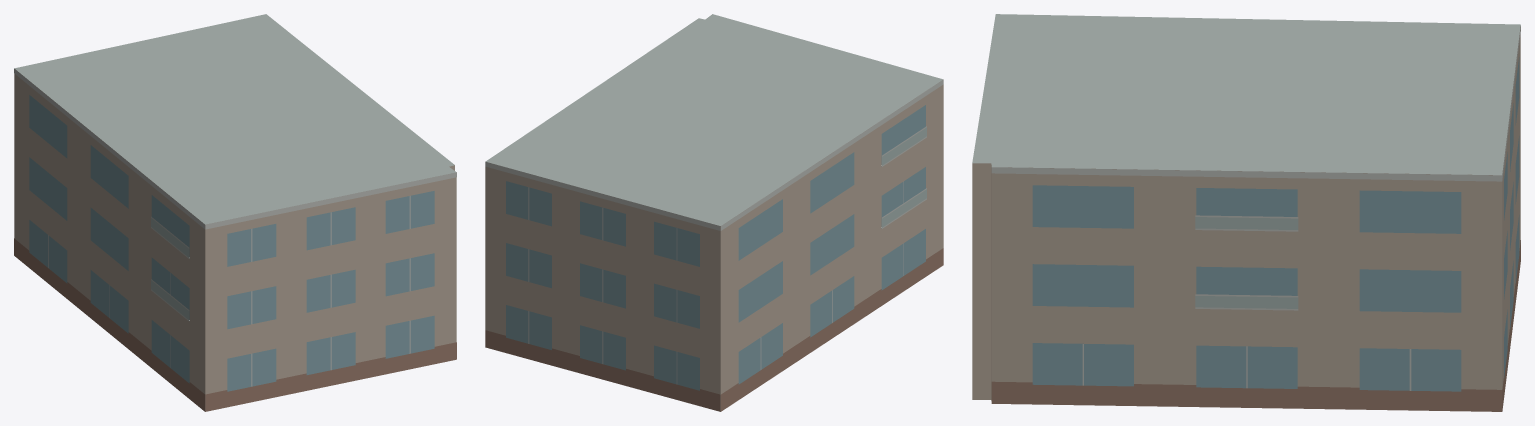
The model's file is survey-upis-32782895.glb.
The picture shows the model from 3 angles, left to right: view 1: azimuth 30°, elevation 25°; view 2: azimuth 150°, elevation 25°; view 3: azimuth 270°, elevation 25°; orthographic projection. The views are drawn at different scales.
Parts seen in each view (by area): view 1: survey-upis-32782895.tmp; view 2: survey-upis-32782895.tmp; view 3: survey-upis-32782895.tmp.
Part boxes in pixels (x1,y1,x2,y2): survey-upis-32782895.tmp: (14,14,456,411); survey-upis-32782895.tmp: (485,14,943,411); survey-upis-32782895.tmp: (972,14,1520,411).
Size of the model in its own units: 13.38 by 9.15 by 19.24.
